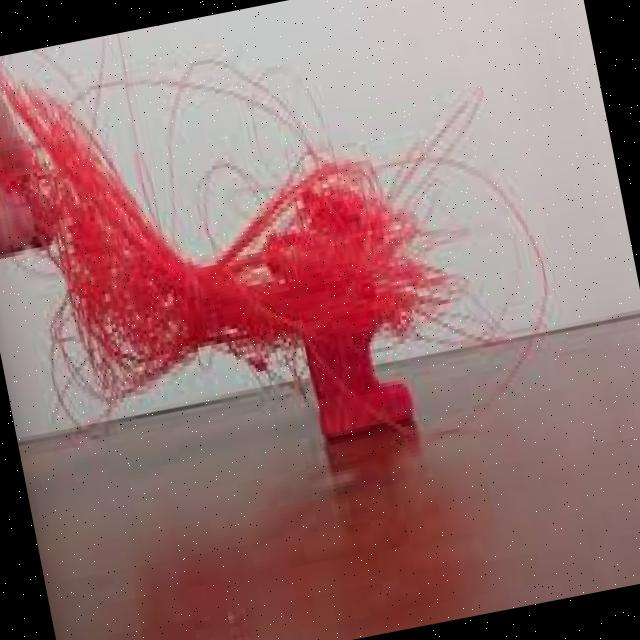spaghetti: (19, 30, 492, 392)
